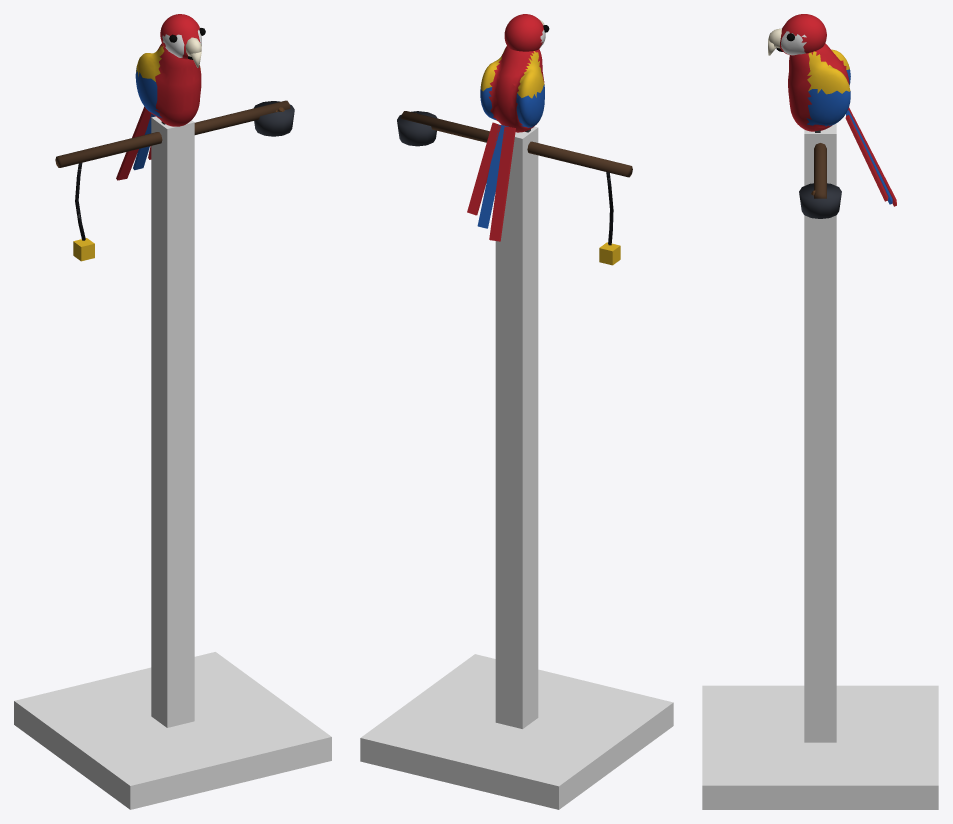
The model's file is Pet_Parrot_Perch.gltf.
3 views of the same model, side by side, from view 1: azimuth 30°, elevation 25°; view 2: azimuth 150°, elevation 25°; view 3: azimuth 270°, elevation 25° (orthographic). The views are drawn at different scales.
Parts seen in each view (by area): view 1: Pet_Parrot_Perch_COL, Pet_Parrot_Perch_COL1, Parrot_Body, Pet_Parrot_Perch, Parrot_Head; view 2: Pet_Parrot_Perch_COL, Pet_Parrot_Perch_COL1, Parrot_Body, Pet_Parrot_Perch, Parrot_Head; view 3: Pet_Parrot_Perch_COL, Pet_Parrot_Perch_COL1, Parrot_Body, Parrot_Head, Pet_Parrot_Perch.
Part boxes in pixels (x1,y1,x2,y2): Pet_Parrot_Perch_COL: (14, 652, 331, 809); Pet_Parrot_Perch_COL1: (151, 116, 194, 727); Parrot_Body: (116, 43, 201, 180); Pet_Parrot_Perch: (55, 100, 294, 261); Parrot_Head: (160, 14, 205, 67); Pet_Parrot_Perch_COL: (360, 654, 673, 809); Pet_Parrot_Perch_COL1: (495, 126, 538, 728); Parrot_Body: (467, 46, 544, 241); Pet_Parrot_Perch: (397, 111, 632, 265); Parrot_Head: (504, 14, 549, 51); Pet_Parrot_Perch_COL: (702, 685, 938, 809); Pet_Parrot_Perch_COL1: (804, 123, 836, 742); Parrot_Body: (788, 43, 896, 206); Parrot_Head: (768, 14, 826, 55); Pet_Parrot_Perch: (799, 143, 841, 218).
Bounding box in the file's own units: 0.51 × 1.53 × 0.44.
12 materials, 1 textured.
